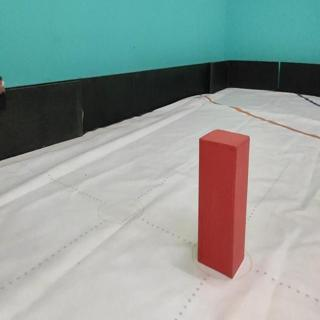redbox: (199, 127, 250, 278)
